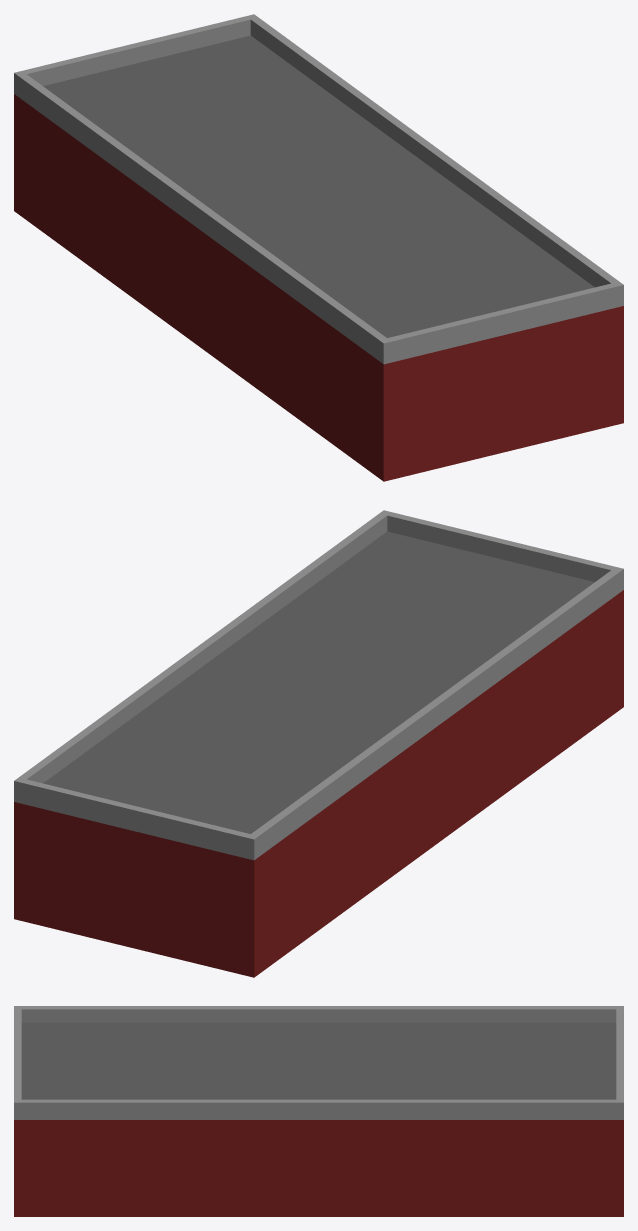
Rendered from Building_15_40_70.FBX.
The picture shows the model from 3 angles, top to bottom: view 1: azimuth 30°, elevation 25°; view 2: azimuth 150°, elevation 25°; view 3: azimuth 270°, elevation 25°; orthographic projection. The views are drawn at different scales.
Parts seen in each view (by area): view 1: BakedBuilding_2014741032859399; view 2: BakedBuilding_2014741032859399; view 3: BakedBuilding_2014741032859399.
Part boxes in pixels (box(x1,y1,x2,y2)): BakedBuilding_2014741032859399: box(14, 14, 623, 481); BakedBuilding_2014741032859399: box(14, 510, 623, 977); BakedBuilding_2014741032859399: box(14, 1006, 623, 1216).
Size of the model in its own units: 1500 by 825 by 4000.
